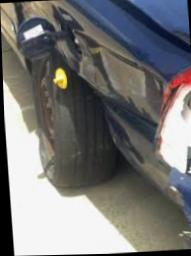Light: (162, 71, 191, 179)
